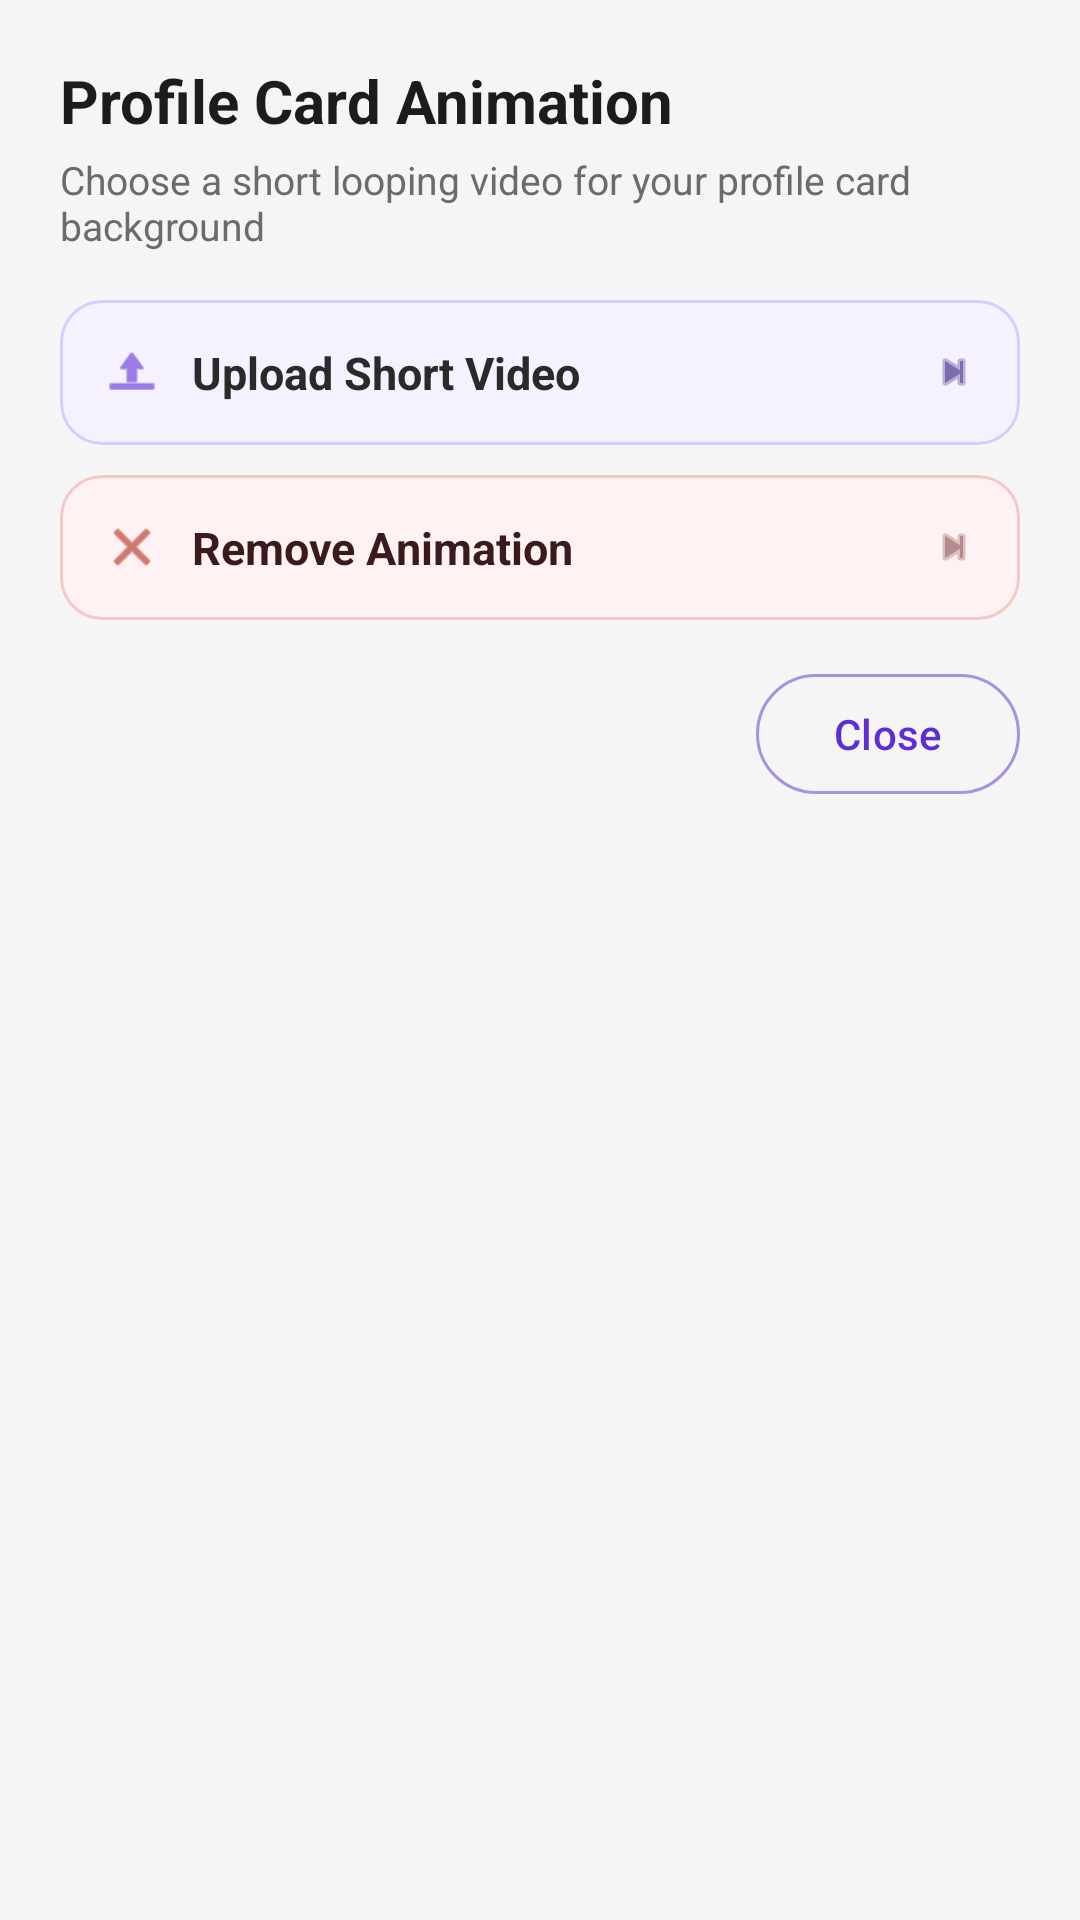

Icon bounding boxes for this 1080px×1920px phone screenshot, format (x1, y1, x2, y2):
close clear cancel: (113, 528, 151, 566)
next: (942, 358, 966, 386), (942, 533, 966, 561)
